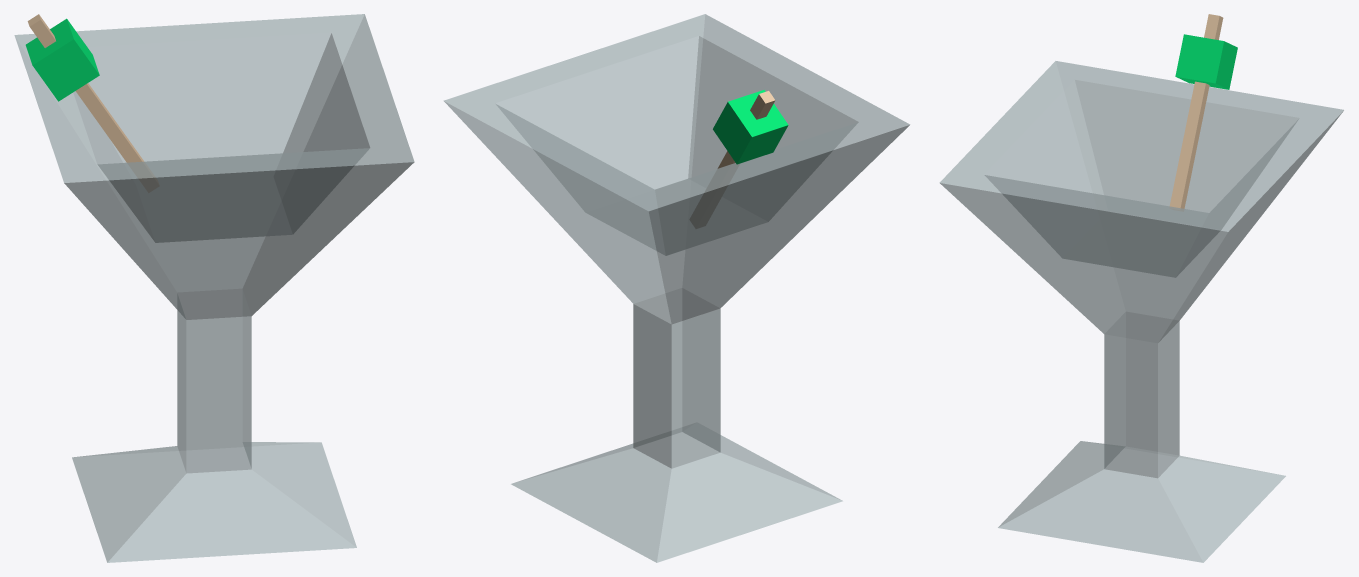
The model's file is martini.fbx.
3 renders of one model, left to right at view 1: azimuth 30°, elevation 25°; view 2: azimuth 150°, elevation 25°; view 3: azimuth 270°, elevation 25°, orthographic. The views are drawn at different scales.
Parts seen in each view (by area): view 1: pCube170; view 2: pCube170; view 3: pCube170.
Part boxes in pixels (<box>): pCube170: <box>14,14,414,562</box>; pCube170: <box>443,14,910,562</box>; pCube170: <box>939,14,1343,562</box>.
Bounding box in the file's own units: 70.66 × 82.68 × 70.66.
